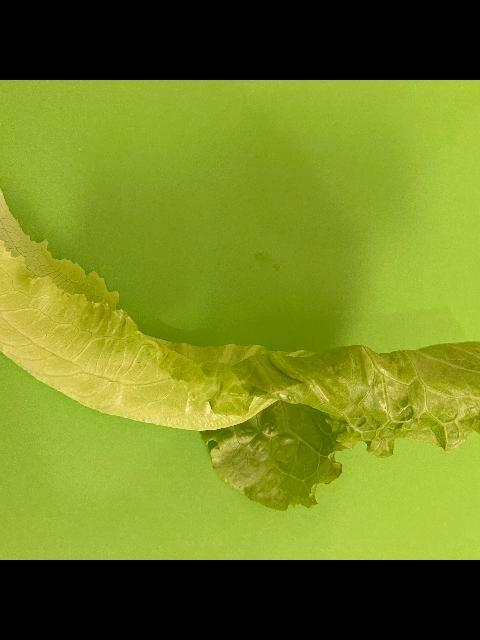lettuce: (0, 136, 480, 514)
